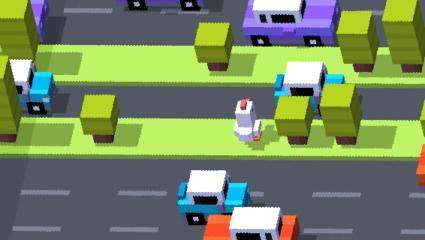hen: (235, 99, 262, 140)
obstacle: (244, 0, 336, 47), (181, 172, 253, 225), (203, 206, 298, 239), (0, 0, 41, 63), (336, 12, 377, 72), (319, 84, 355, 143), (0, 55, 22, 144), (80, 96, 118, 145), (193, 23, 230, 72), (274, 62, 321, 97), (276, 98, 309, 142), (30, 65, 55, 116), (116, 0, 210, 12)
